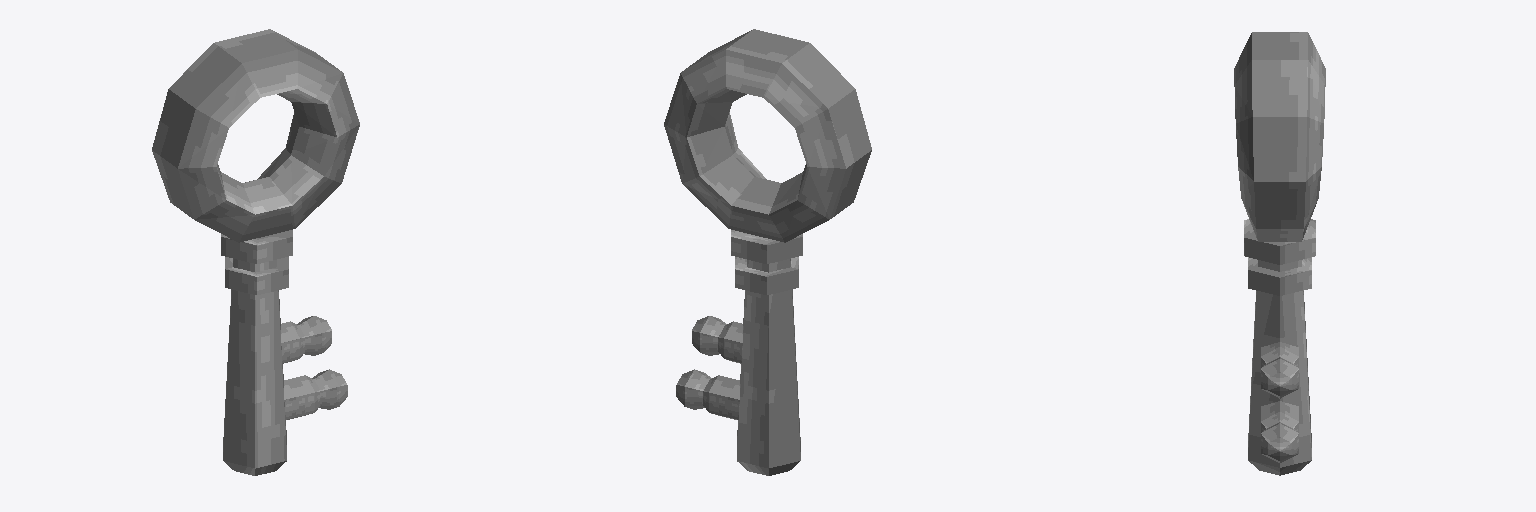
3 views of the same model, side by side, from view 1: azimuth 30°, elevation 25°; view 2: azimuth 150°, elevation 25°; view 3: azimuth 270°, elevation 25° (orthographic).
Visible parts, largest first — view 1: key; view 2: key; view 3: key.
Part boxes in pixels (x1,y1,x2,y2): key: (152,29,359,475); key: (664,29,871,475); key: (1234,32,1325,475).
Bounding box in the file's own units: 26.8 × 58.87 × 11.58.
Materials: 1 (1 with a texture image).